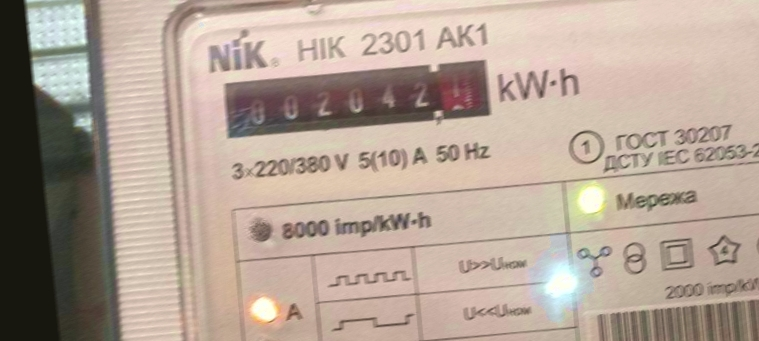0: (246, 96, 267, 128), (345, 85, 366, 117), (280, 92, 300, 124)
1: (446, 70, 463, 102)
2: (313, 89, 334, 120), (410, 79, 430, 110)
4: (377, 80, 398, 113)
screen: (217, 53, 497, 152)
